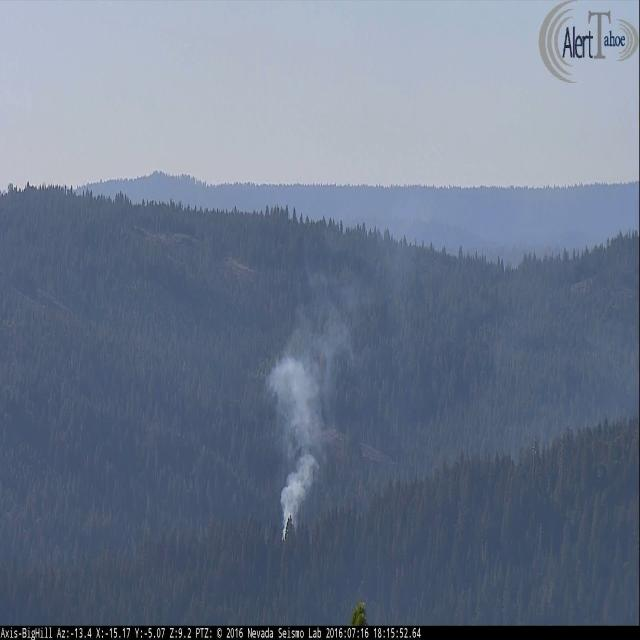smoke: (266, 358, 326, 546)
